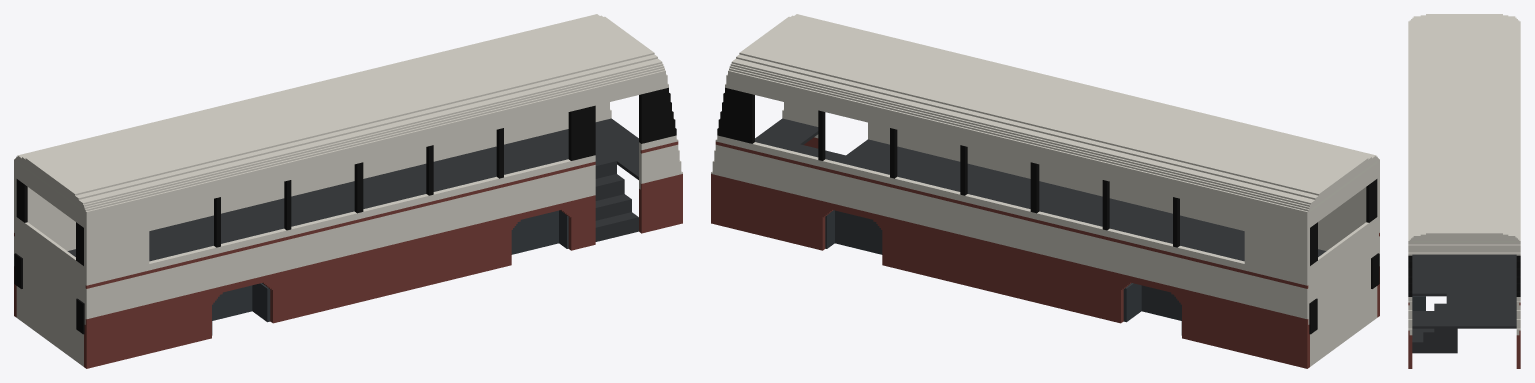
The model's file is coach_shell.glb.
The picture shows the model from 3 angles, left to right: view 1: azimuth 30°, elevation 25°; view 2: azimuth 150°, elevation 25°; view 3: azimuth 270°, elevation 25°; orthographic projection. The views are drawn at different scales.
Visible parts, largest first — view 1: body:compound; view 2: body:compound; view 3: body:compound.
Part boxes in pixels (x1,y1,x2,y2): body:compound: [14, 14, 682, 368]; body:compound: [711, 14, 1379, 368]; body:compound: [1408, 14, 1520, 368].
Bounding box in the file's own units: 12.22 × 3.25 × 2.56.
